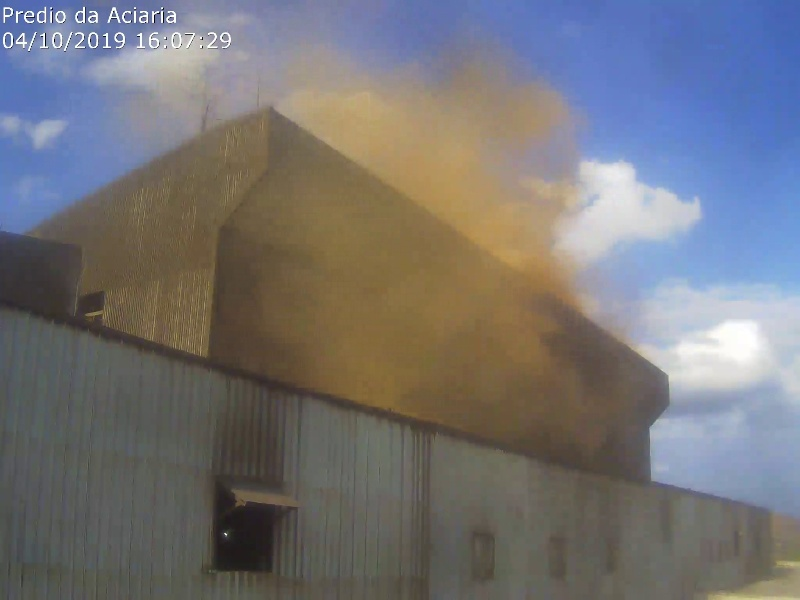bom: (590, 8, 800, 262), (4, 2, 128, 203)
pessimo: (286, 61, 580, 389)
ruim: (137, 9, 279, 143)
